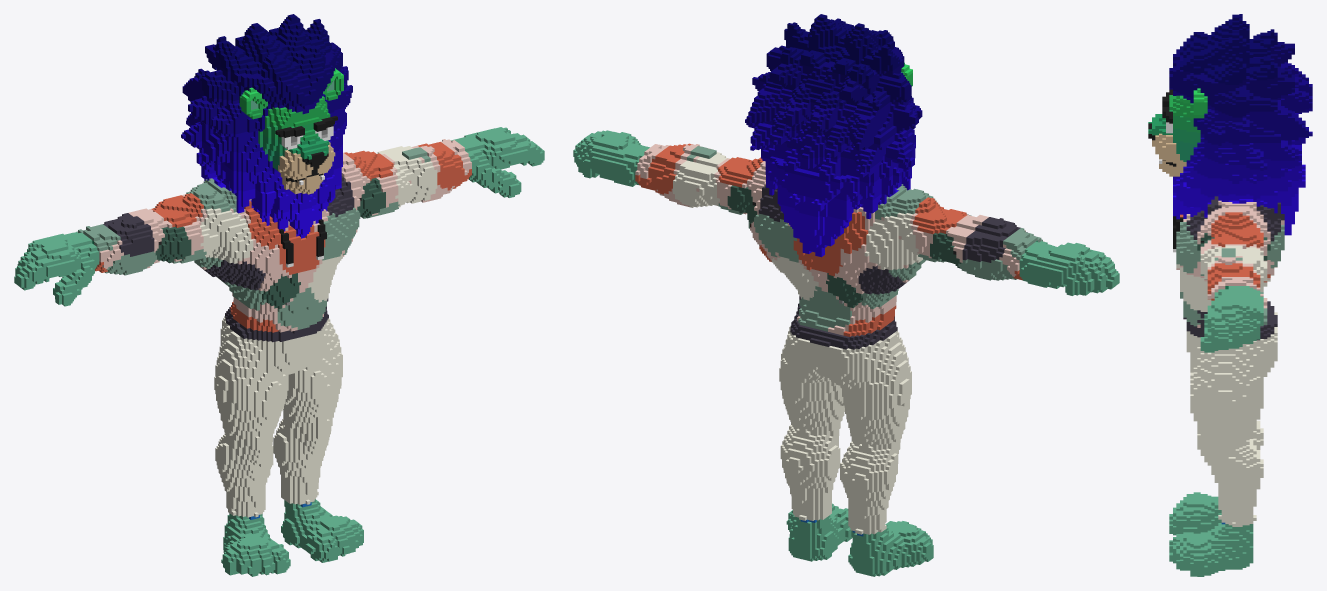
The picture shows the model from 3 angles, left to right: view 1: azimuth 30°, elevation 25°; view 2: azimuth 150°, elevation 25°; view 3: azimuth 270°, elevation 25°; orthographic projection. The views are drawn at different scales.
Visible parts, largest first — view 1: standard; view 2: standard; view 3: standard.
Part boxes in pixels (box(x1,y1,x2,y2)): standard: box(14, 14, 544, 576); standard: box(573, 14, 1119, 576); standard: box(1148, 14, 1312, 576).
Bounding box in the file's own units: 17.2 × 16.5 × 4.7.
5 materials, 5 textured.
